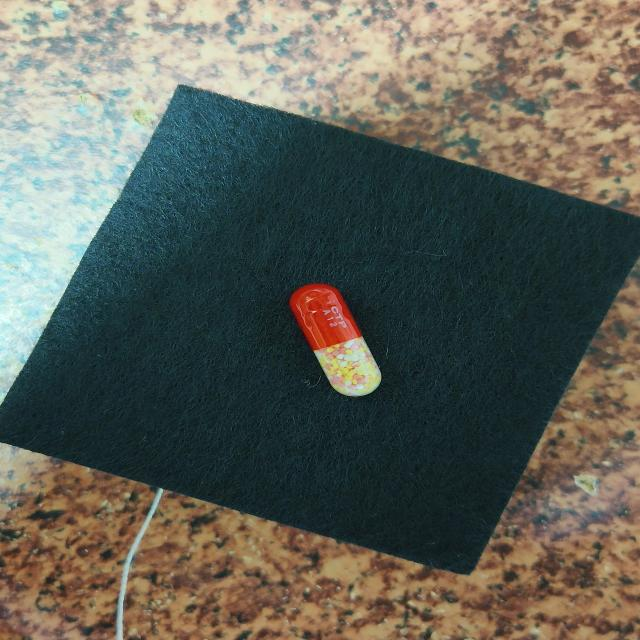Intact Capsule: (289, 283, 382, 396)
